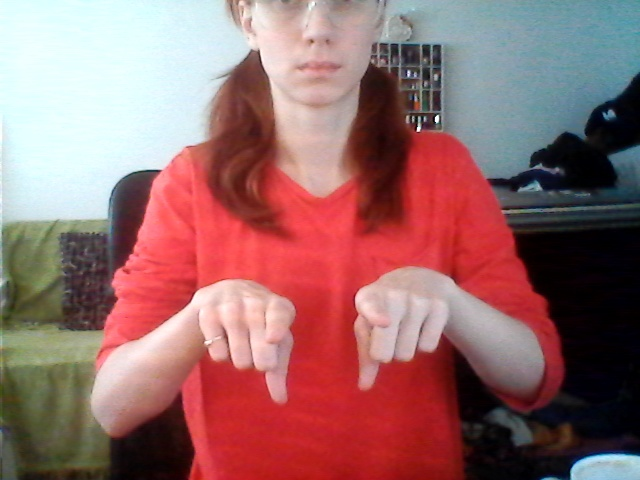sestra: (190, 242, 453, 414)
